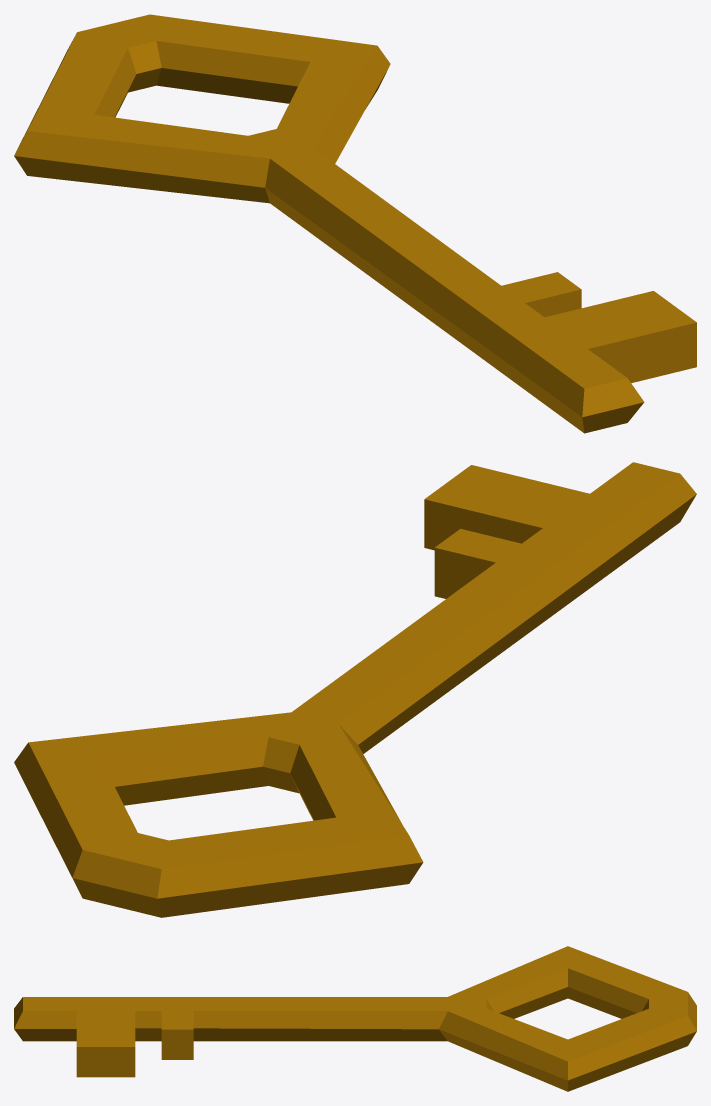
Rendered from Key.fbx.
3 renders of one model, top to bottom at view 1: azimuth 30°, elevation 25°; view 2: azimuth 150°, elevation 25°; view 3: azimuth 270°, elevation 25°, orthographic. The views are drawn at different scales.
Visible parts, largest first — view 1: Plane; view 2: Plane; view 3: Plane.
Boxes of the visible parts, bbox=[...] form: Plane: bbox=[14, 14, 696, 433]; Plane: bbox=[14, 462, 696, 917]; Plane: bbox=[14, 946, 696, 1091].
Bounding box in the file's own units: 718 × 35.08 × 309.
